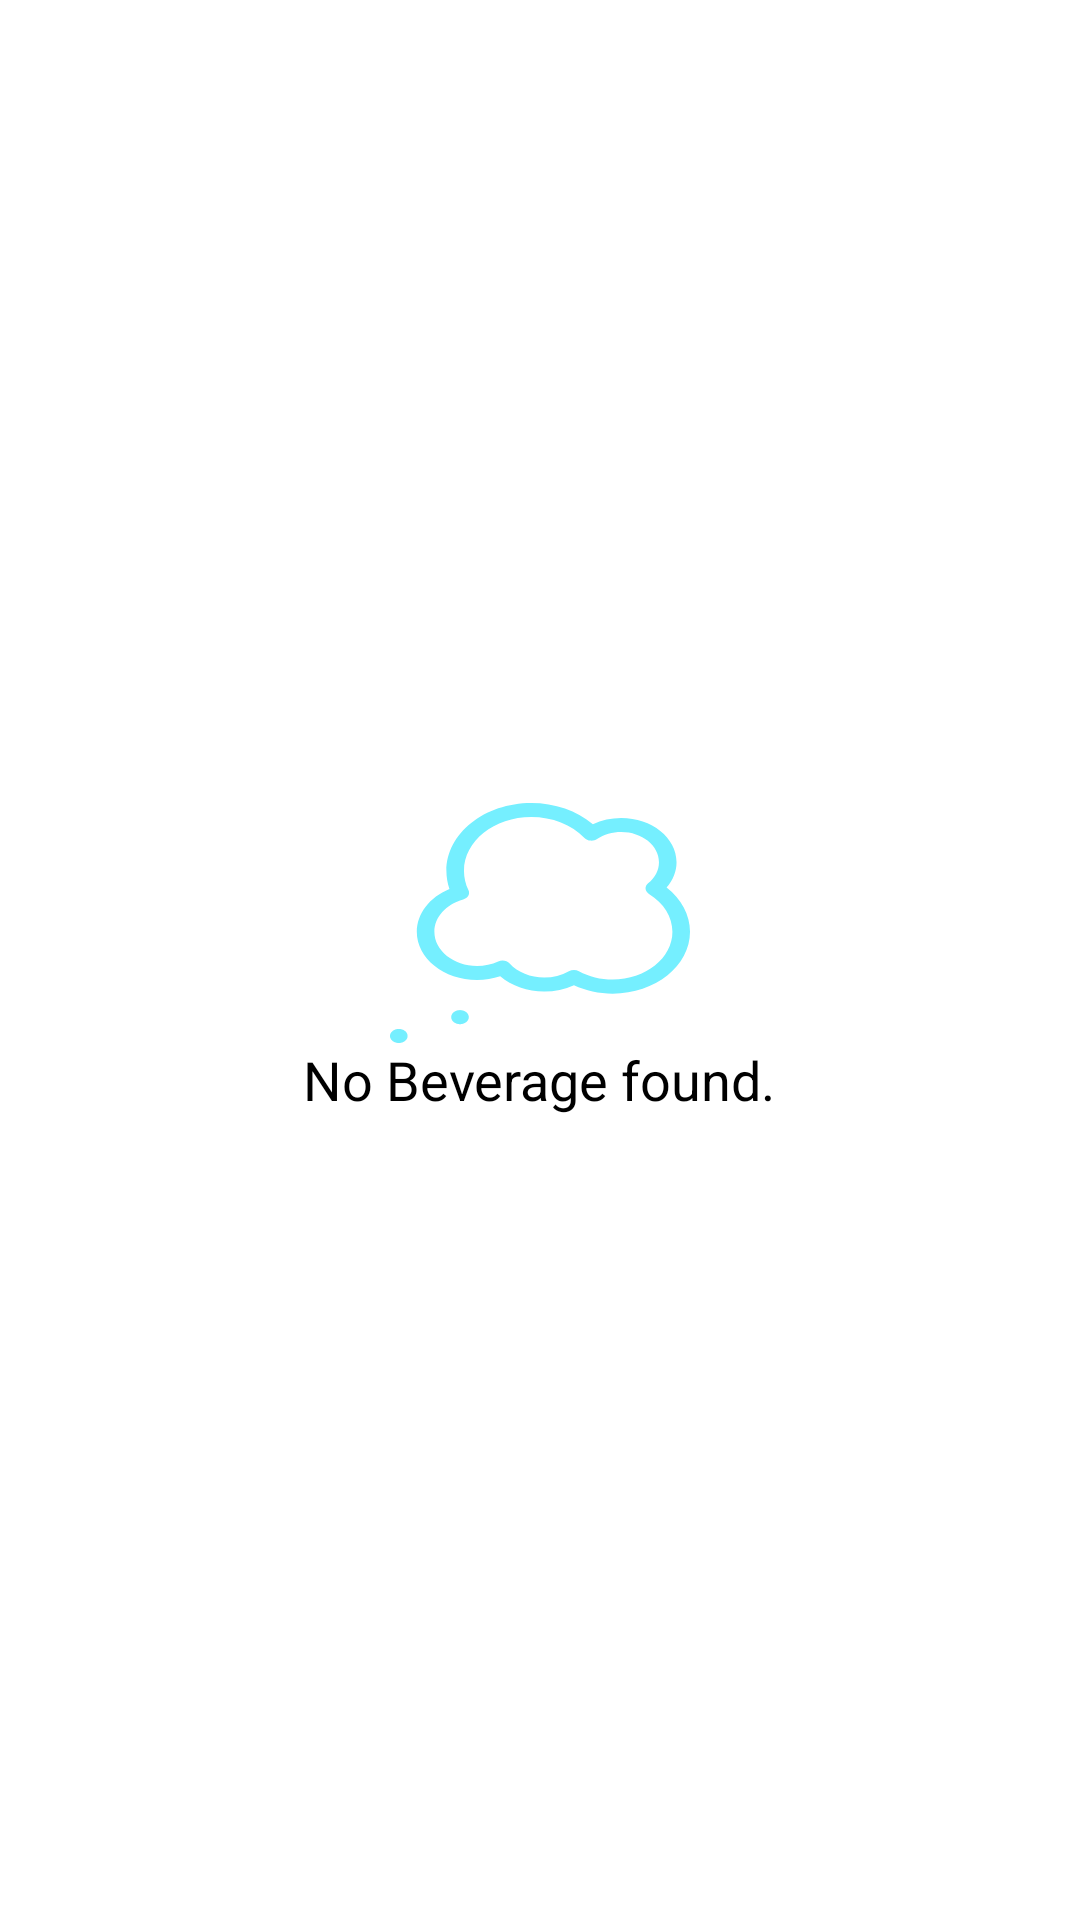

Locate icon controls on the screen. Image size 1080 × 1920, boxes as (x1, y1, x2, y2).
thoughts: (390, 803, 690, 1043)
